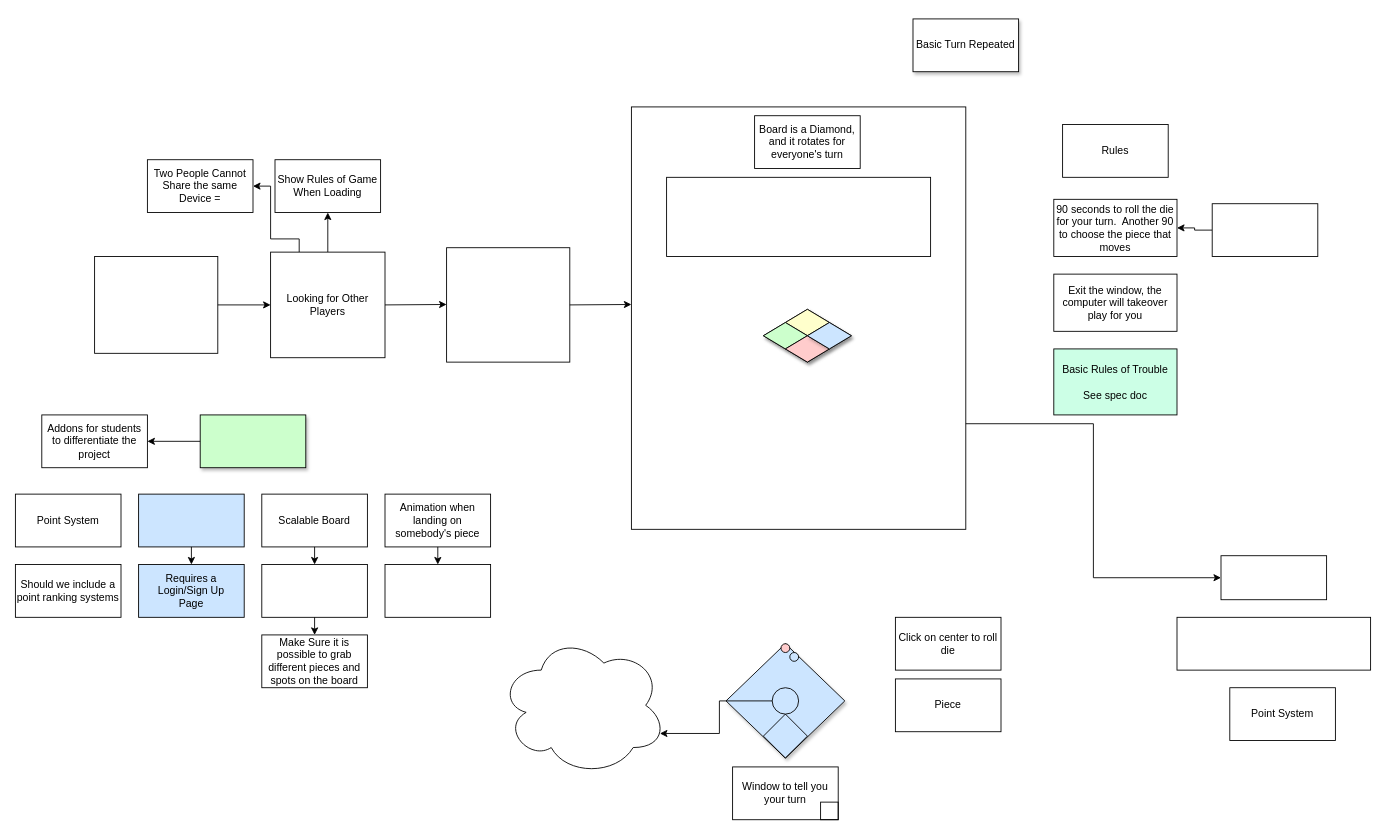
This 1386x835 diagram has some shape labels left out. Here are the shapes that lost their labels. From the top down, the centre of each, then its label:
(x=1264, y=230): We will need a timer for this
(x=156, y=304): Home Page Start Button
(x=508, y=304): States Numbers of Players Ask if Ready to start Player Chooses Color
(x=253, y=442): Additional Features
(x=191, y=520): Trouble Making Board
(x=314, y=590): SVG File of the Board
(x=437, y=590): At least needs
(x=1273, y=577): Game Temination
(x=1273, y=643): Continues to determine 1st, 2nd, and 3rd place
(x=583, y=705): "POP" when presed
